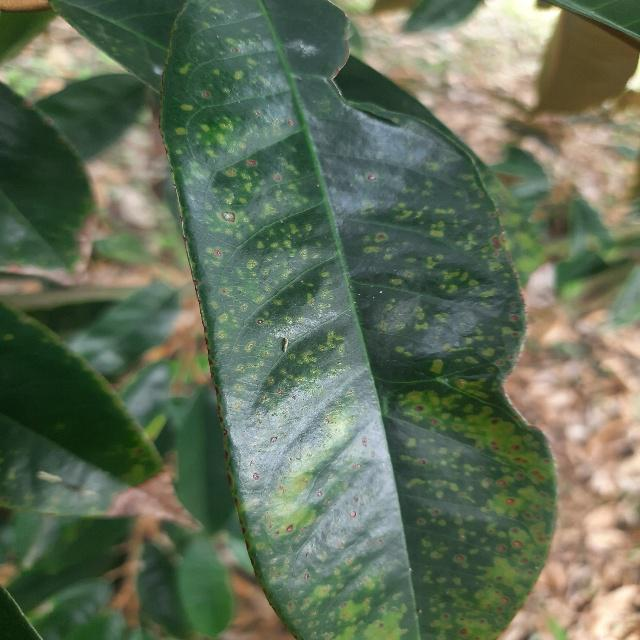Leaf Spot: (145, 0, 571, 639)
